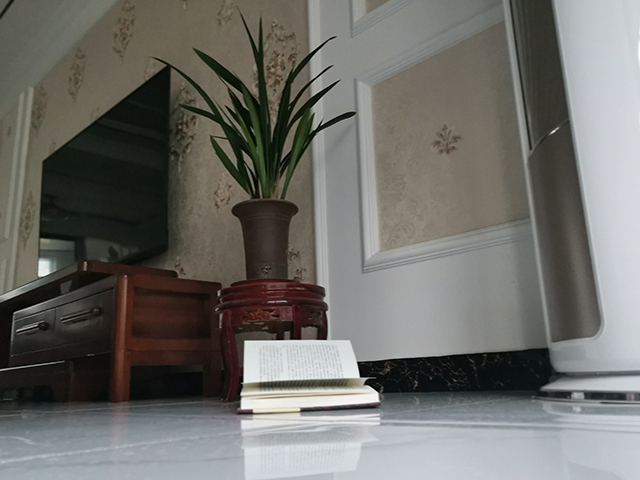book: (232, 337, 384, 417)
cabinet: (1, 257, 223, 404)
stool: (212, 277, 331, 403)
